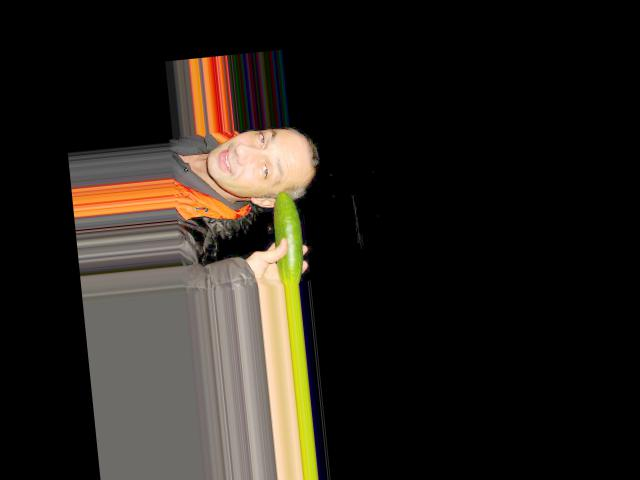cucumber: (270, 189, 306, 285)
